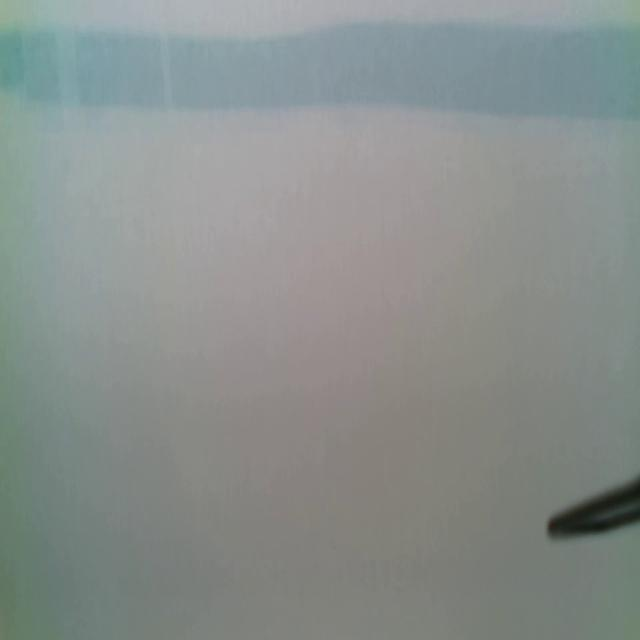color bleeding: (0, 5, 640, 130)
